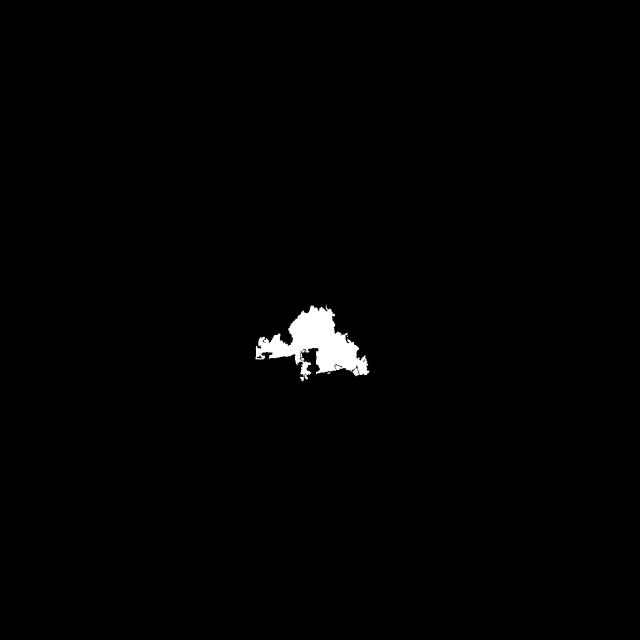fire: (181, 252, 423, 453)
